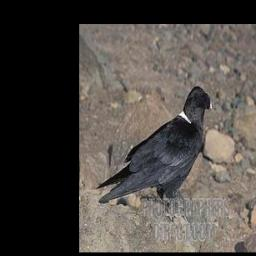Crow: (94, 85, 214, 227)
